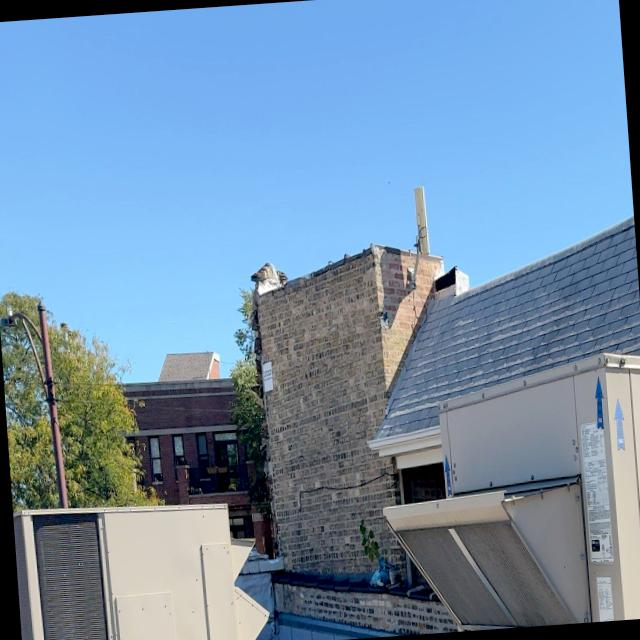RTU: (347, 344, 640, 636), (12, 482, 274, 640)
